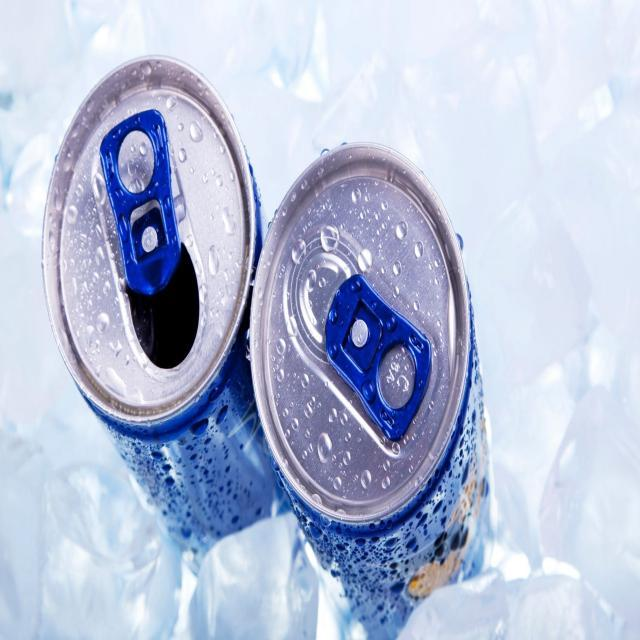can: (248, 137, 518, 640), (36, 15, 270, 572)
